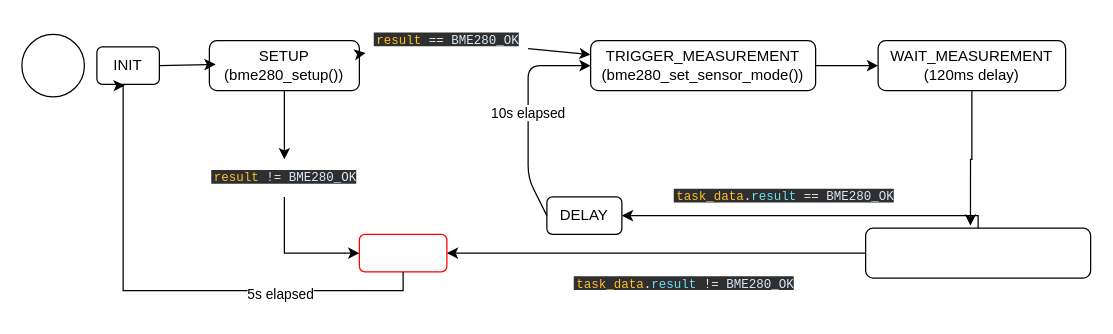
The diagram is 1113 pixels wide and 334 high, and some of its shapes have lost their labels. Each missing label, with the centre of its shape:
"ERROR" goes at point 402,252.
"READ_DATA (bme280_get_sensor_data())" goes at point 977,252.
